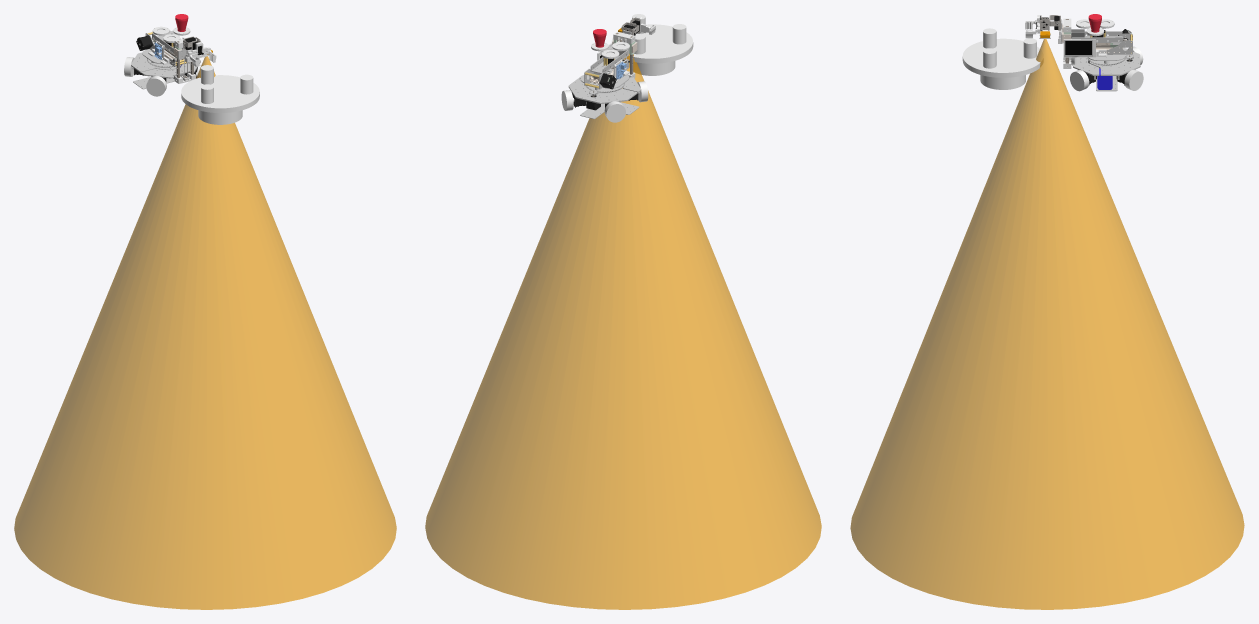
The model's file is 1793544400000-asset_sw_flattened.glb.
3 renders of one model, left to right at view 1: azimuth 30°, elevation 25°; view 2: azimuth 150°, elevation 25°; view 3: azimuth 270°, elevation 25°, orthographic. The views are drawn at different scales.
Parts seen in each view (by area): view 1: solidworks-flattened; view 2: solidworks-flattened; view 3: solidworks-flattened.
Boxes of the visible parts, x1,y1,x2,y2 form: solidworks-flattened: (14, 14, 396, 609); solidworks-flattened: (425, 14, 821, 609); solidworks-flattened: (850, 14, 1244, 609).
Size of the model in its own units: 1.46 by 2.08 by 1.46.
